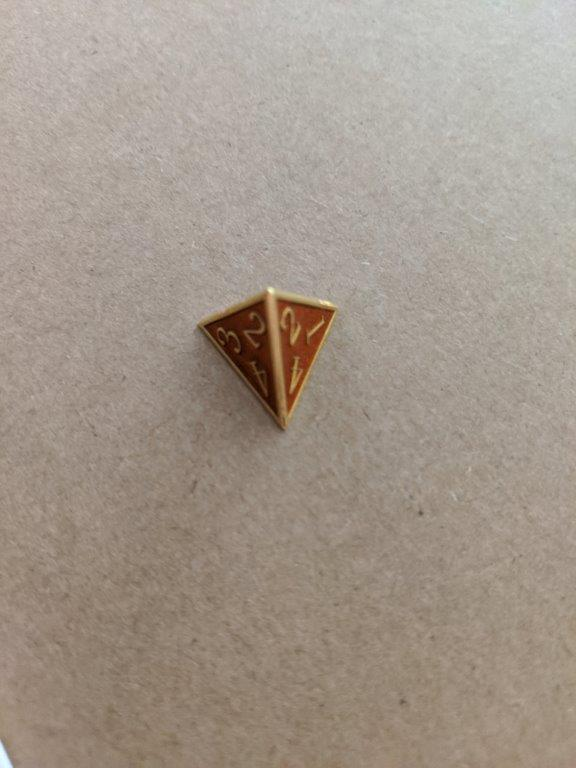d4-2: (196, 285, 342, 437)
